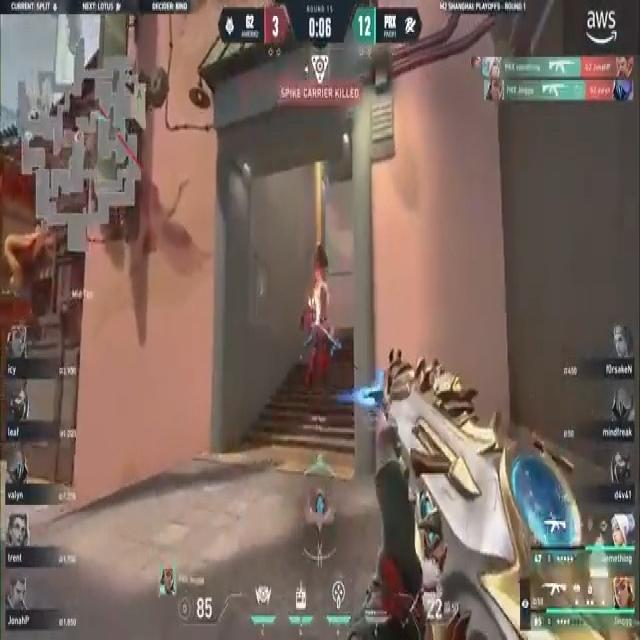enemy: (298, 304, 338, 397)
